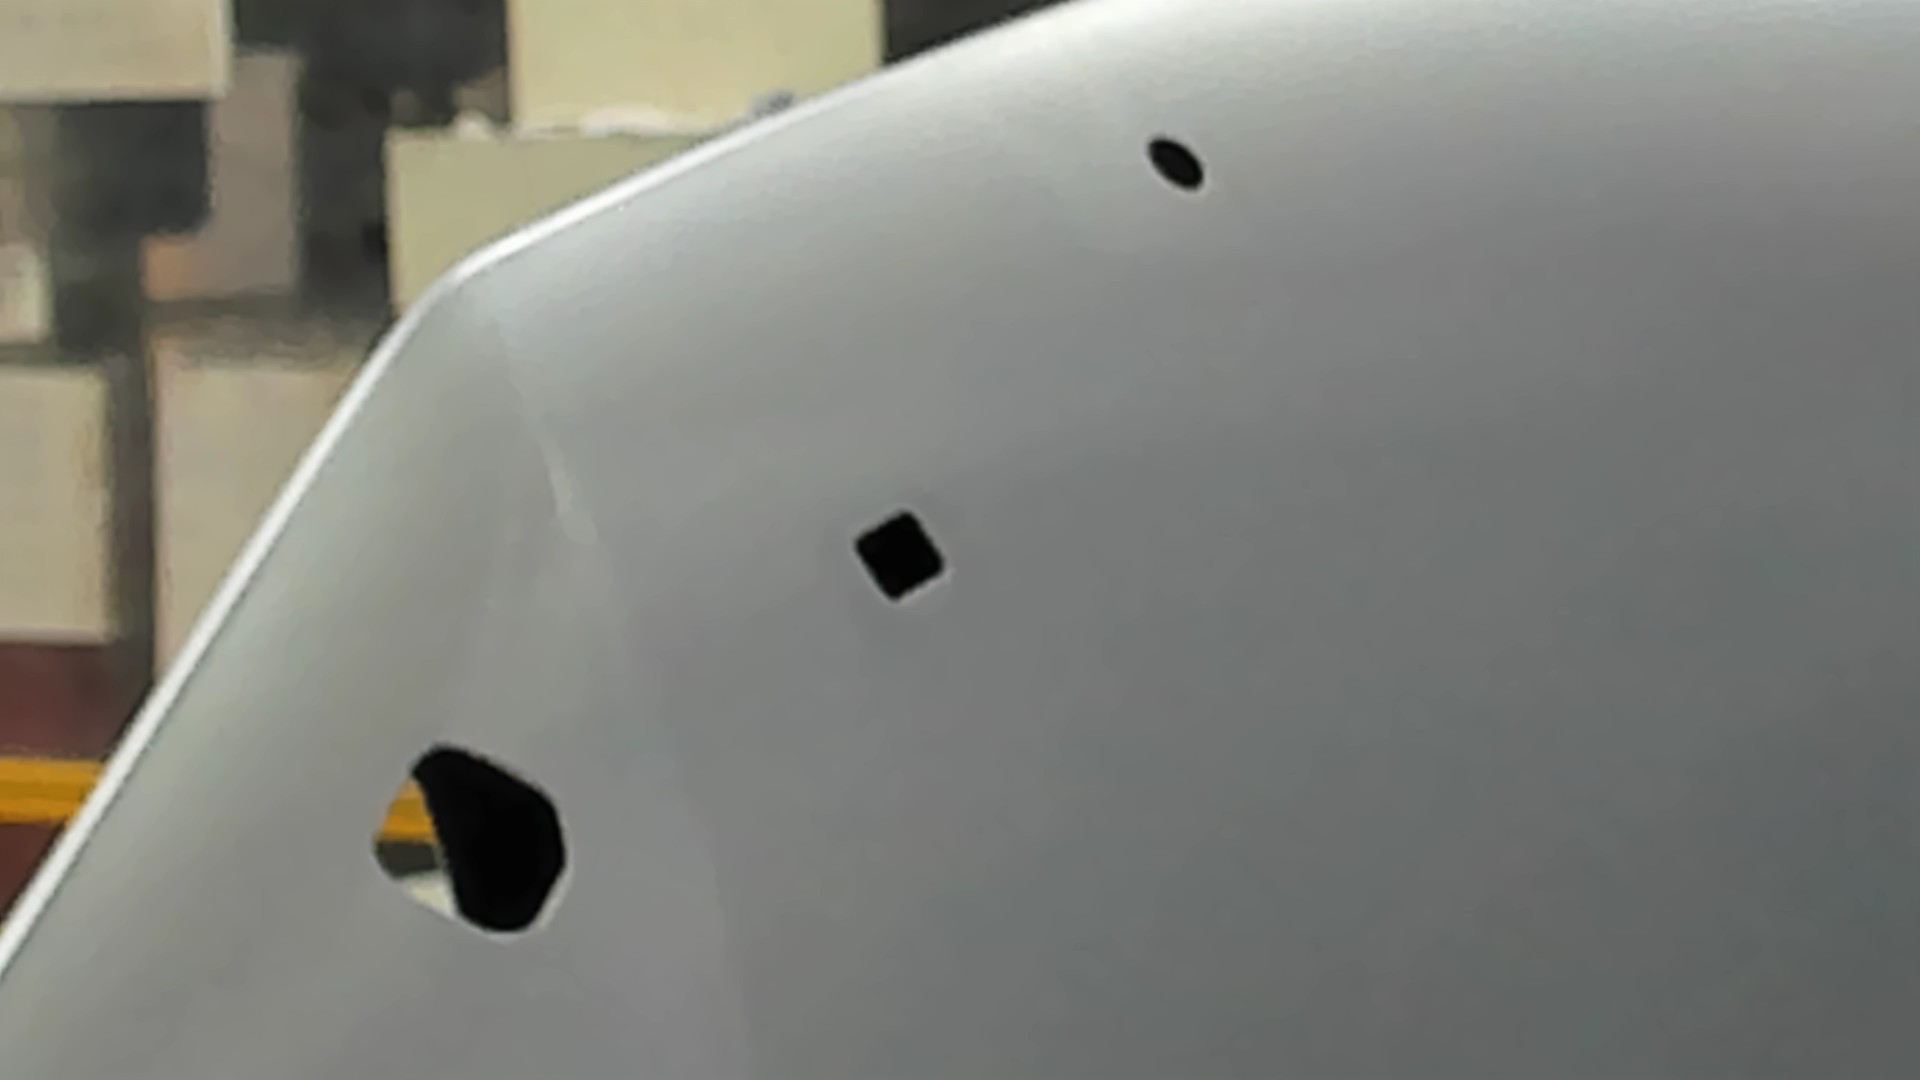chico: (1141, 131, 1209, 195)
grande: (371, 741, 574, 942)
mediano: (847, 505, 953, 607)
